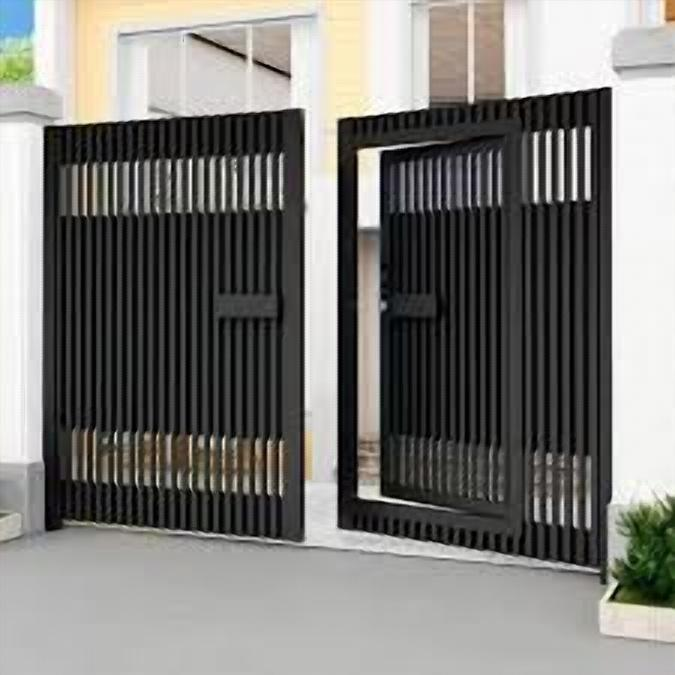Gate: (40, 88, 616, 587)
Window-without-grill: (119, 23, 299, 122), (423, 3, 503, 115)
